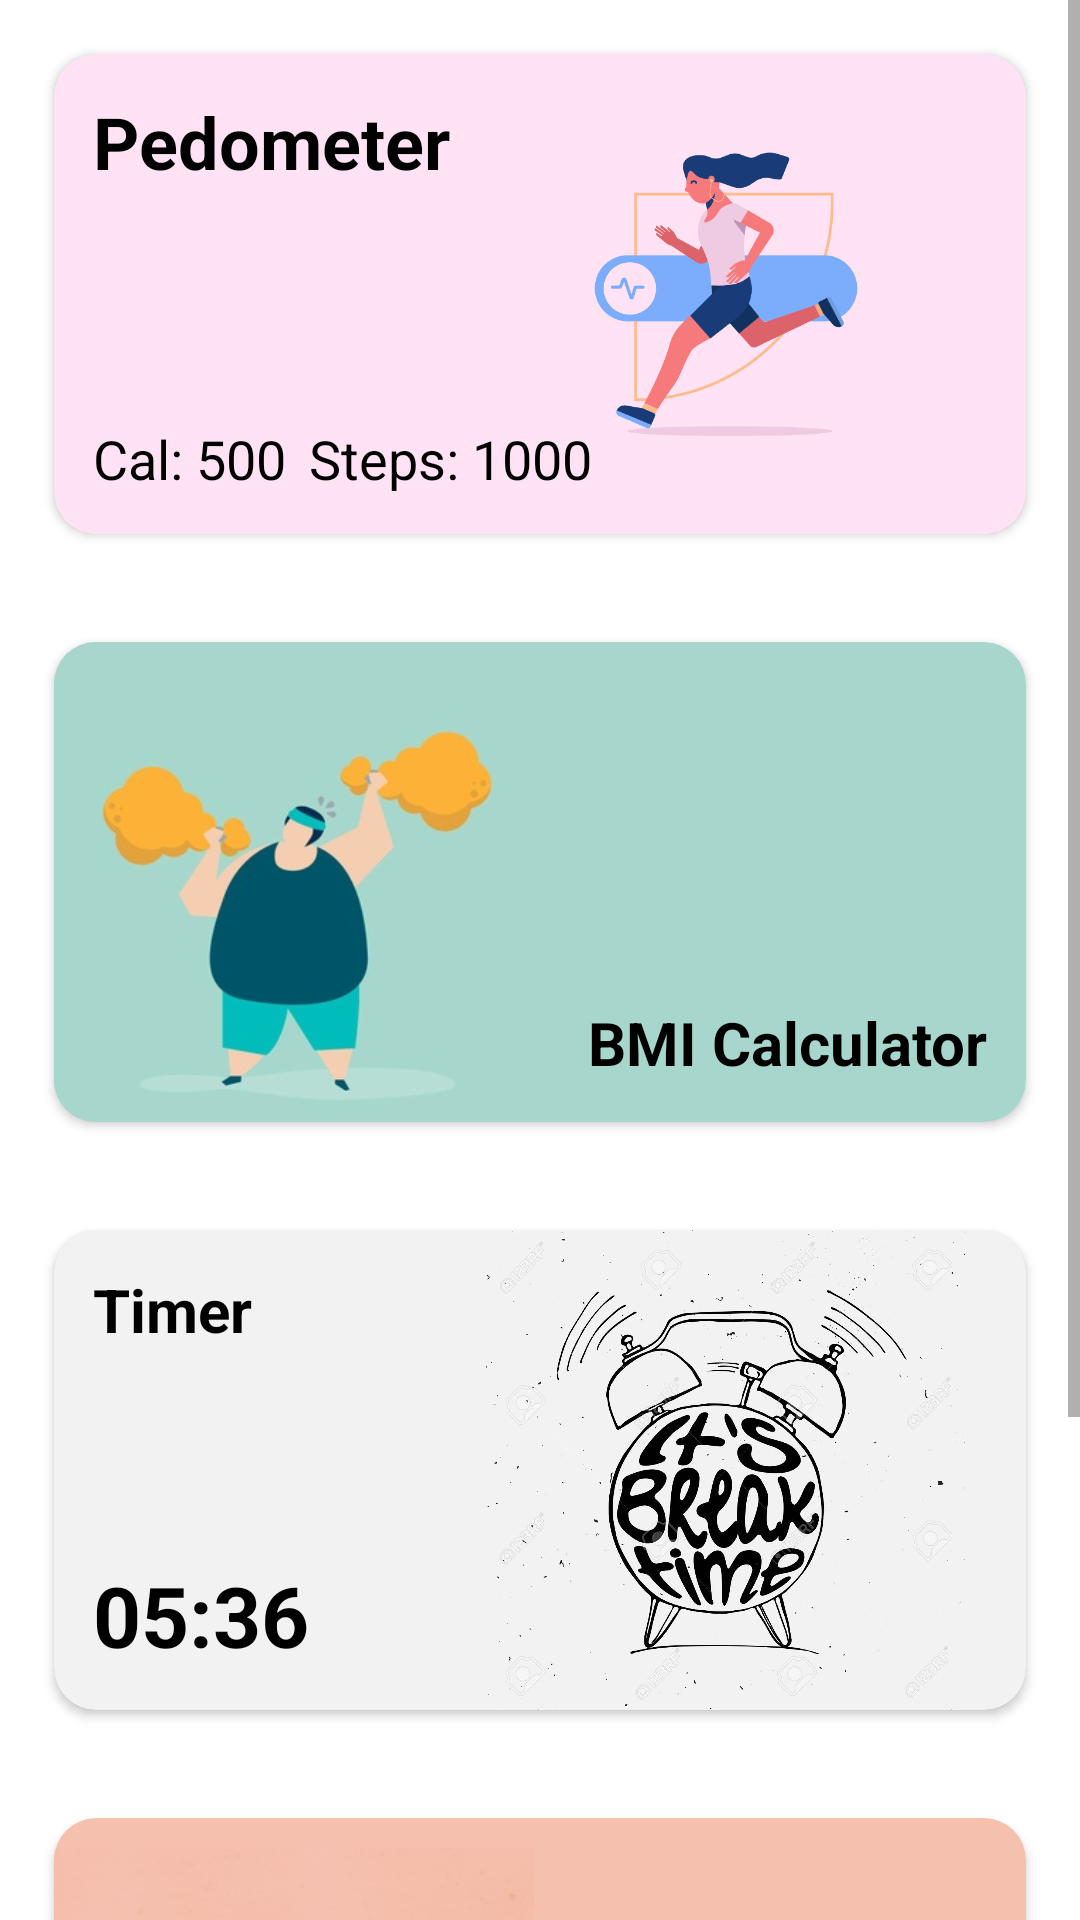

Icons on this 1080px×1920px Android screen, each with its box as (x1, y1, x2, y2):
pedorun: (505, 152, 858, 481)
